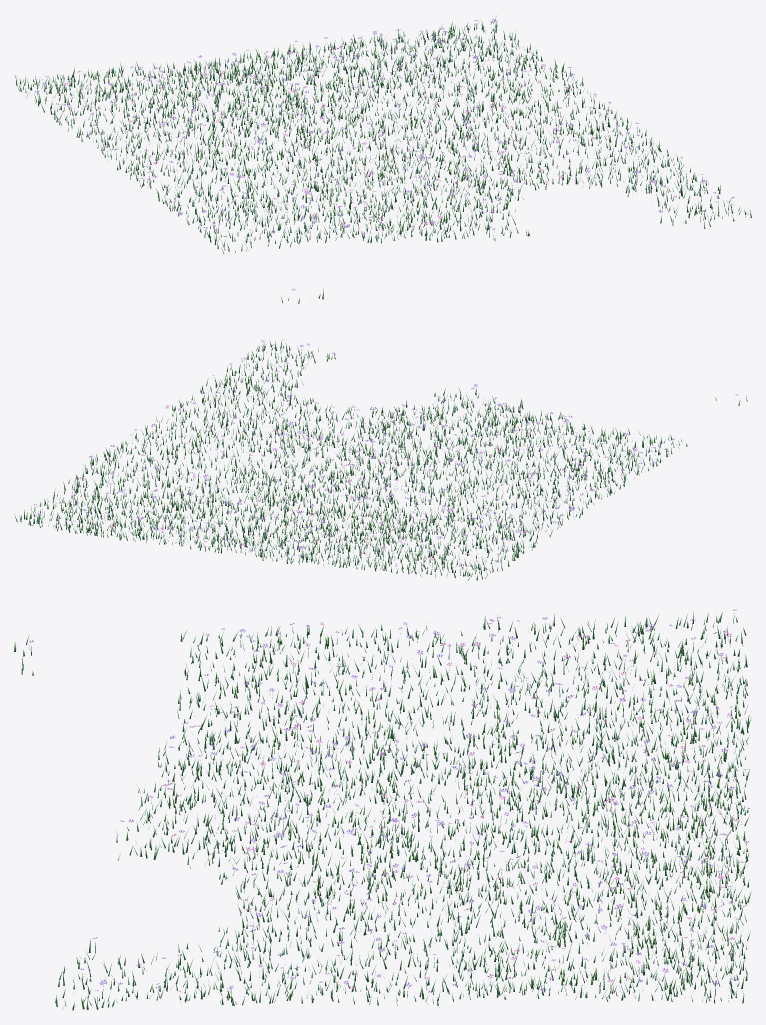
The picture shows the model from 3 angles, top to bottom: view 1: azimuth 30°, elevation 25°; view 2: azimuth 150°, elevation 25°; view 3: azimuth 270°, elevation 25°; orthographic projection. The views are drawn at different scales.
Visible parts, largest first — view 1: gc_18; view 2: gc_18; view 3: gc_18.
Part boxes in pixels (bbox=[...]): gc_18: bbox=[14, 16, 751, 303]; gc_18: bbox=[14, 339, 747, 580]; gc_18: bbox=[14, 609, 751, 1010].
Bounding box in the file's own units: 18.25 × 2.53 × 18.11.
Materials: 1 (1 with a texture image).
